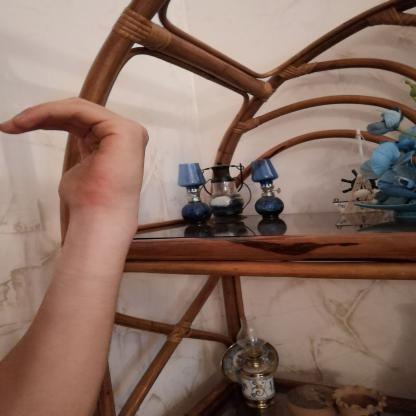HAA: (0, 80, 168, 231)
